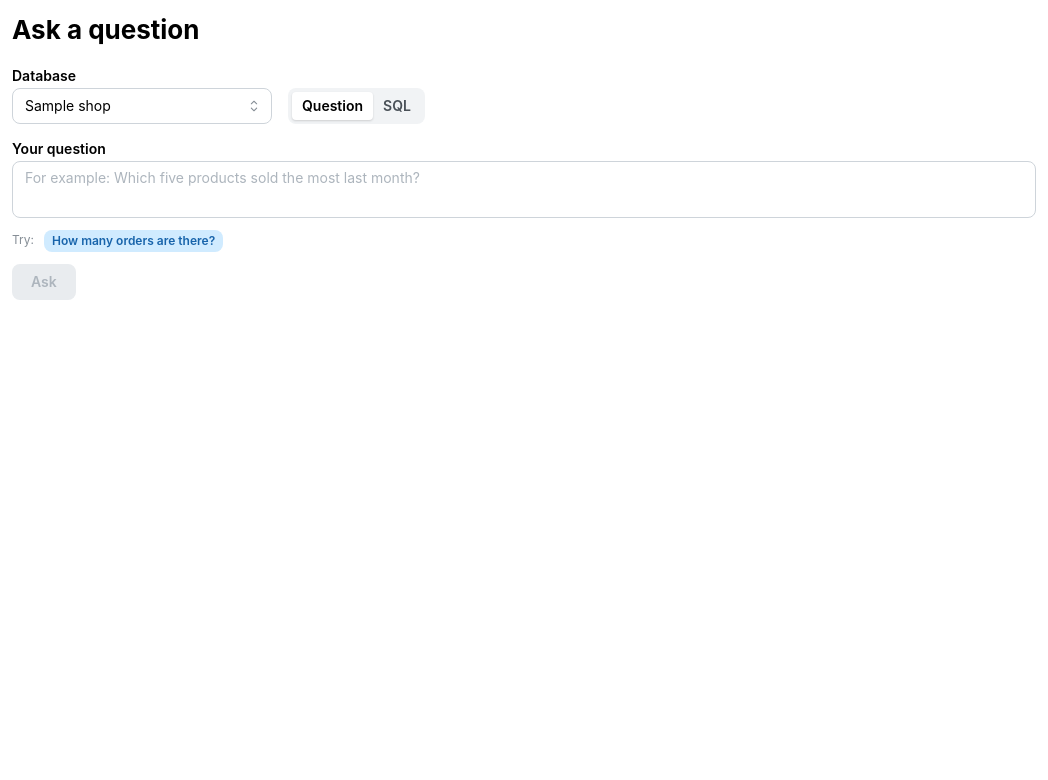
Test case: AskPage › sorts the table when a column heading is clicked
Type "How many orders per region?" into the text box labelled "Your question" at [524, 189], box left=12, top=161, right=1036, bottom=218
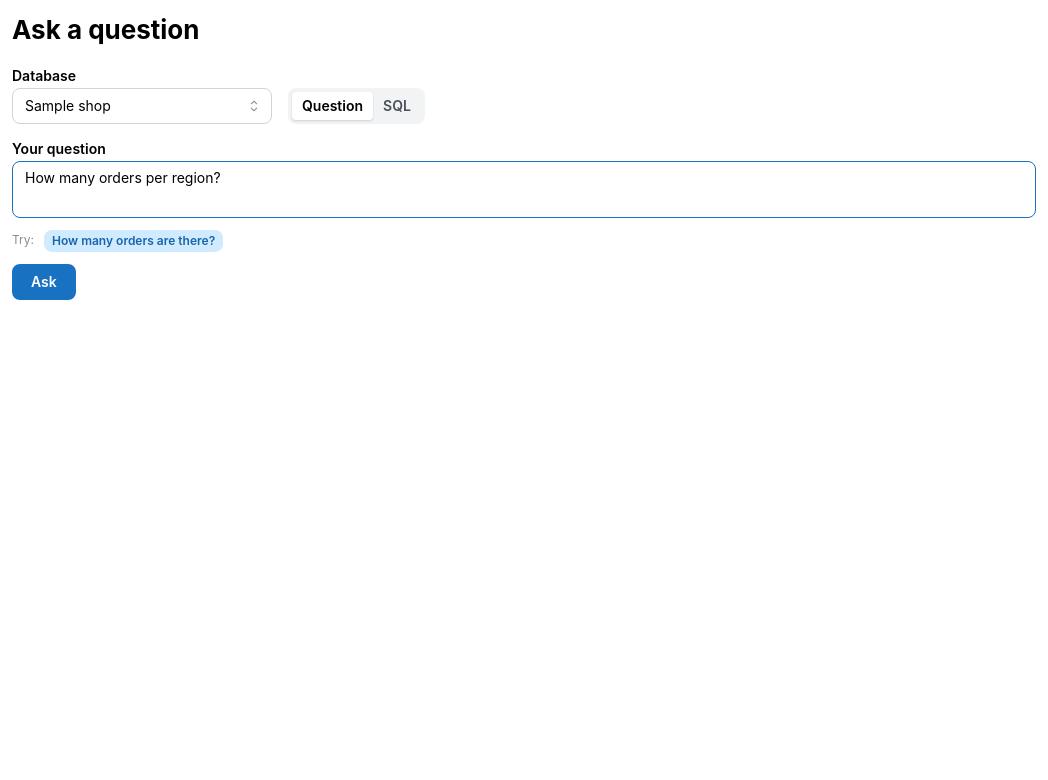
Click the button "Ask" at [44, 282], box left=12, top=264, right=76, bottom=300
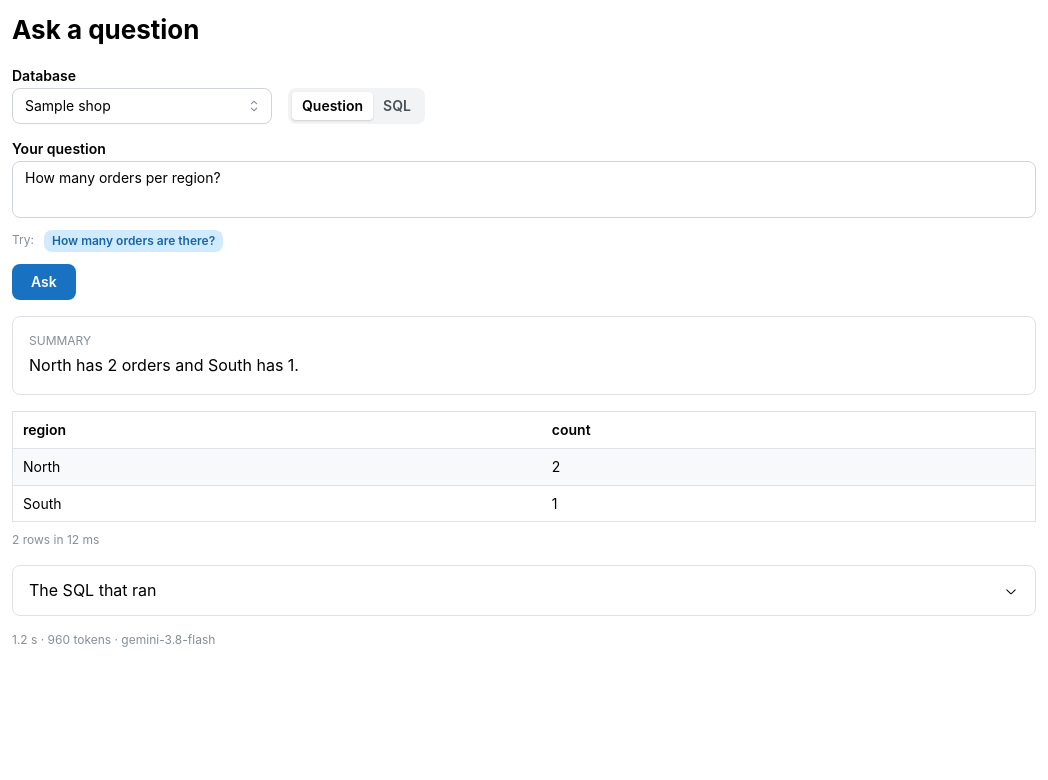
Click the button "count" at [571, 430], box left=552, top=419, right=591, bottom=441
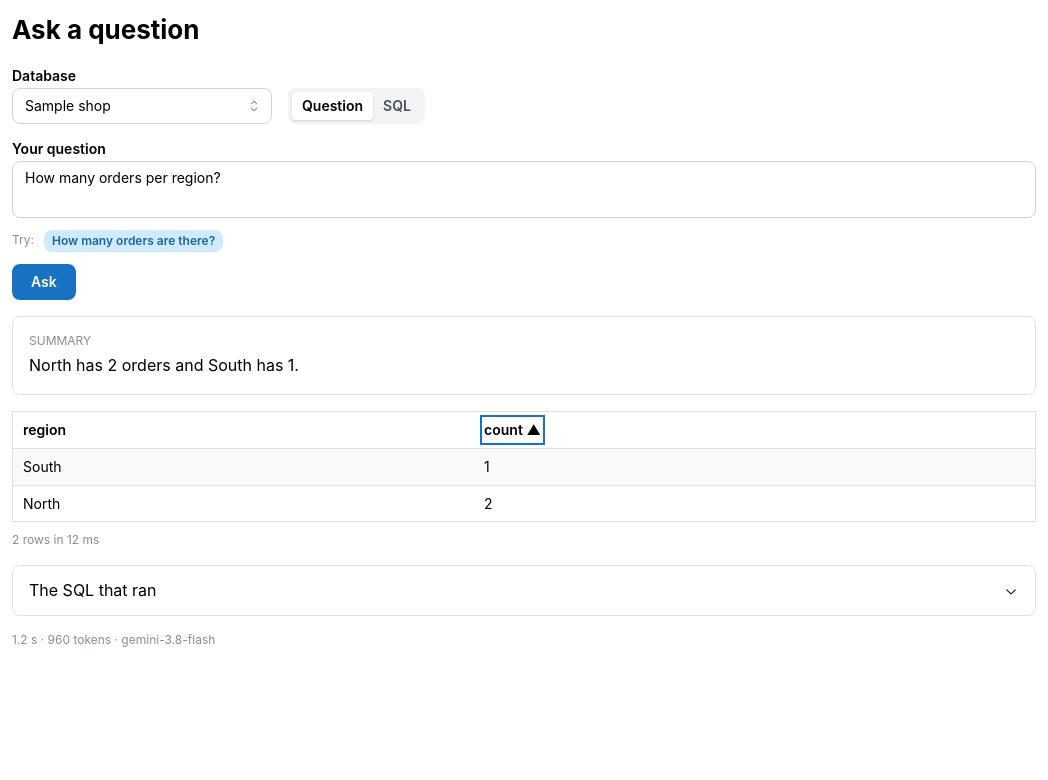
expect the cells read "South", "1", "North", "2", in this order: met, box left=12, top=448, right=474, bottom=485; left=474, top=448, right=1036, bottom=485; left=12, top=485, right=474, bottom=522; left=474, top=485, right=1036, bottom=522
